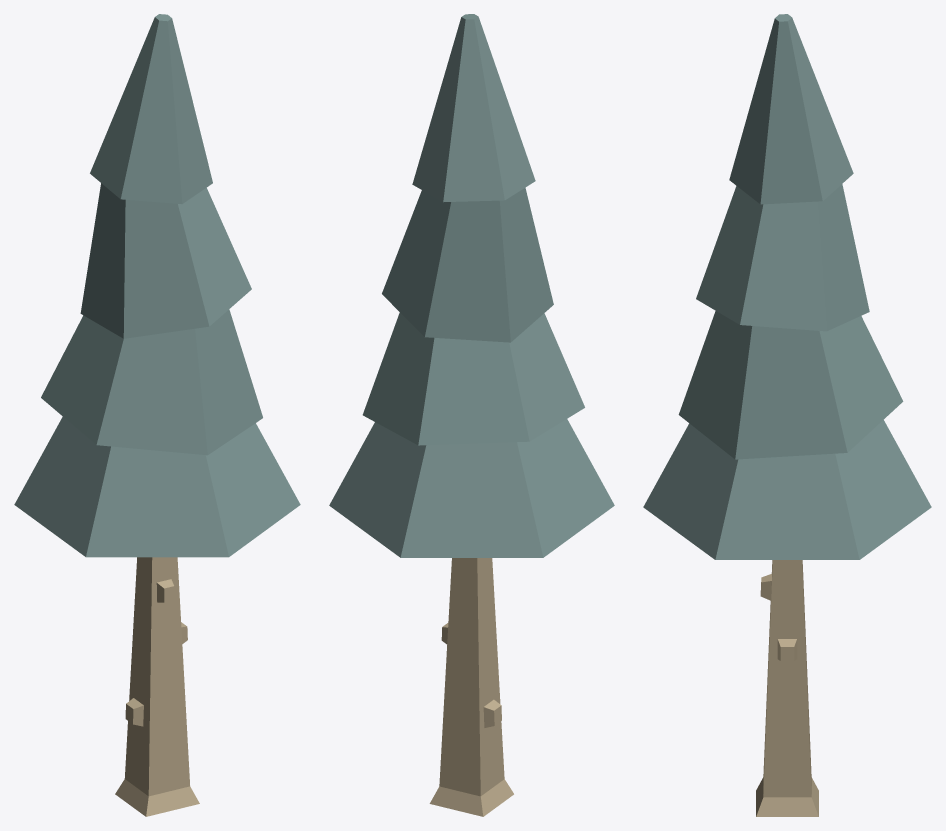
File: Tree02_2.fbx
The picture shows the model from 3 angles, left to right: view 1: azimuth 30°, elevation 25°; view 2: azimuth 150°, elevation 25°; view 3: azimuth 270°, elevation 25°; orthographic projection.
Visible parts, largest first — view 1: naturePack_052:polySurface1; view 2: naturePack_052:polySurface1; view 3: naturePack_052:polySurface1.
Part boxes in pixels (x1,y1,x2,y2): naturePack_052:polySurface1: (14,14,300,816); naturePack_052:polySurface1: (329,14,614,816); naturePack_052:polySurface1: (643,14,931,816).
Size of the model in its own units: 1.92 by 6.69 by 2.22.
